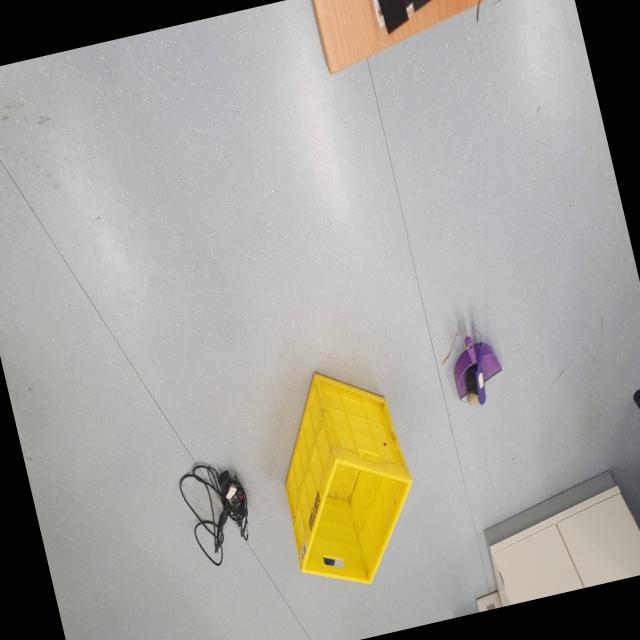box: (252, 348, 448, 617)
